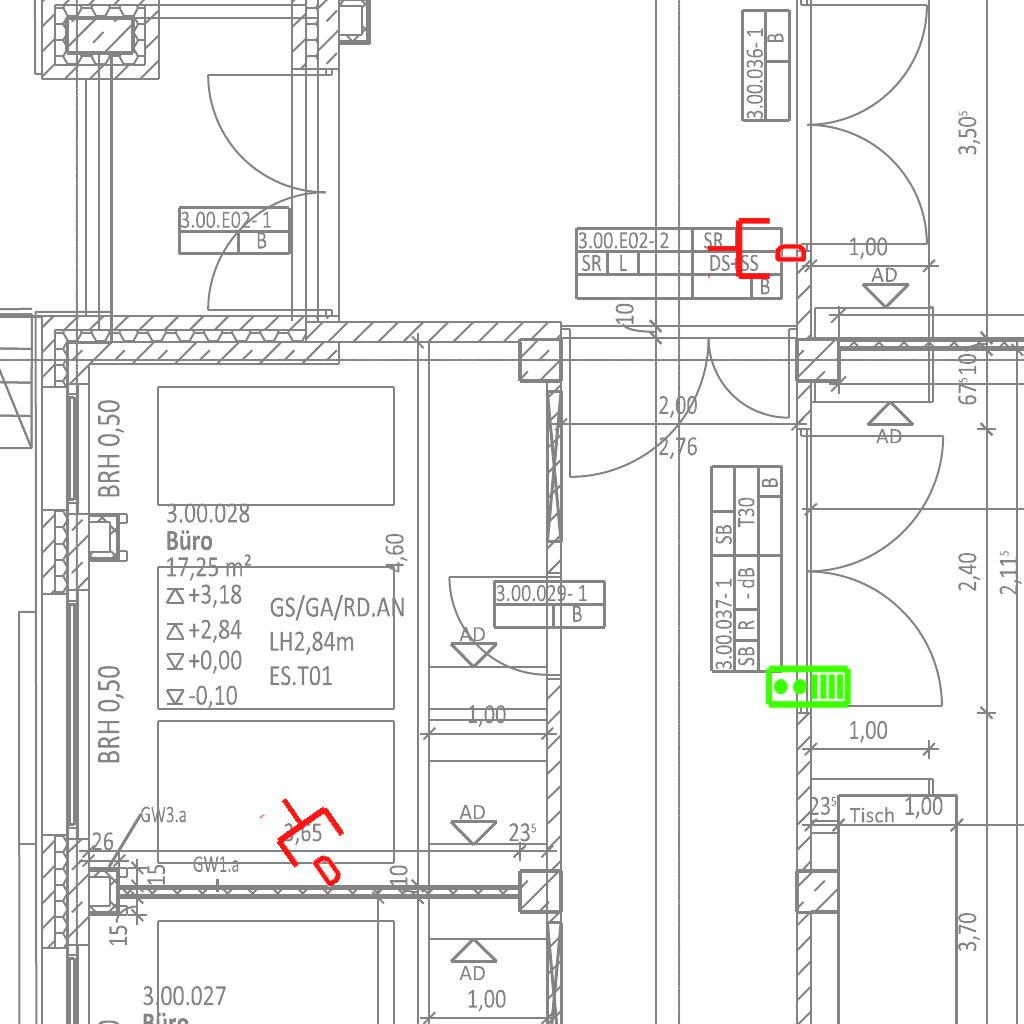Datenanschluss_einfach: (254, 778, 369, 900), (706, 214, 806, 283)
Gegensprechanlage_mit_Video: (764, 664, 852, 711)
